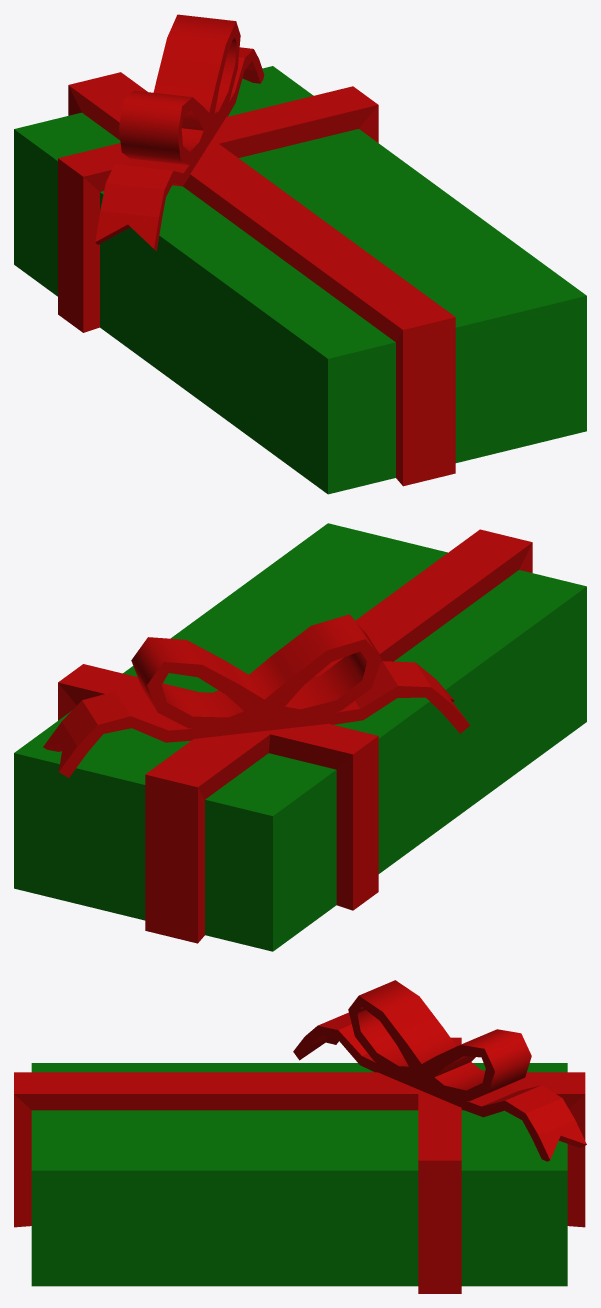
File: Presents14.fbx
3 views of the same model, one above another, from view 1: azimuth 30°, elevation 25°; view 2: azimuth 150°, elevation 25°; view 3: azimuth 270°, elevation 25° (orthographic). The views are drawn at different scales.
Visible parts, largest first — view 1: Present14; view 2: Present14; view 3: Present14.
Part boxes in pixels (x1=…): Present14: x1=14, y1=14, x2=586, y2=494; Present14: x1=14, y1=523, x2=586, y2=951; Present14: x1=14, y1=980, x2=586, y2=1293.
Size of the model in its own units: 51.77 by 34.94 by 89.83.
